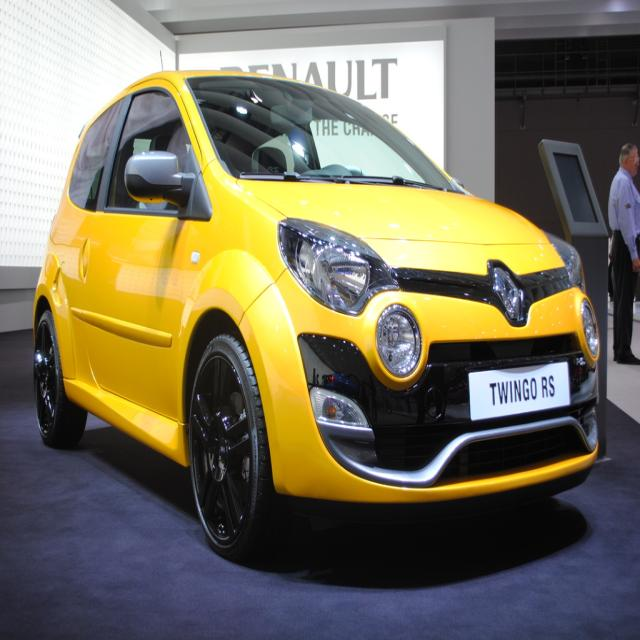car: (32, 41, 602, 564)
